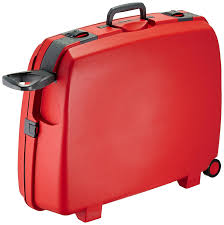suitcase: (2, 2, 222, 225)
